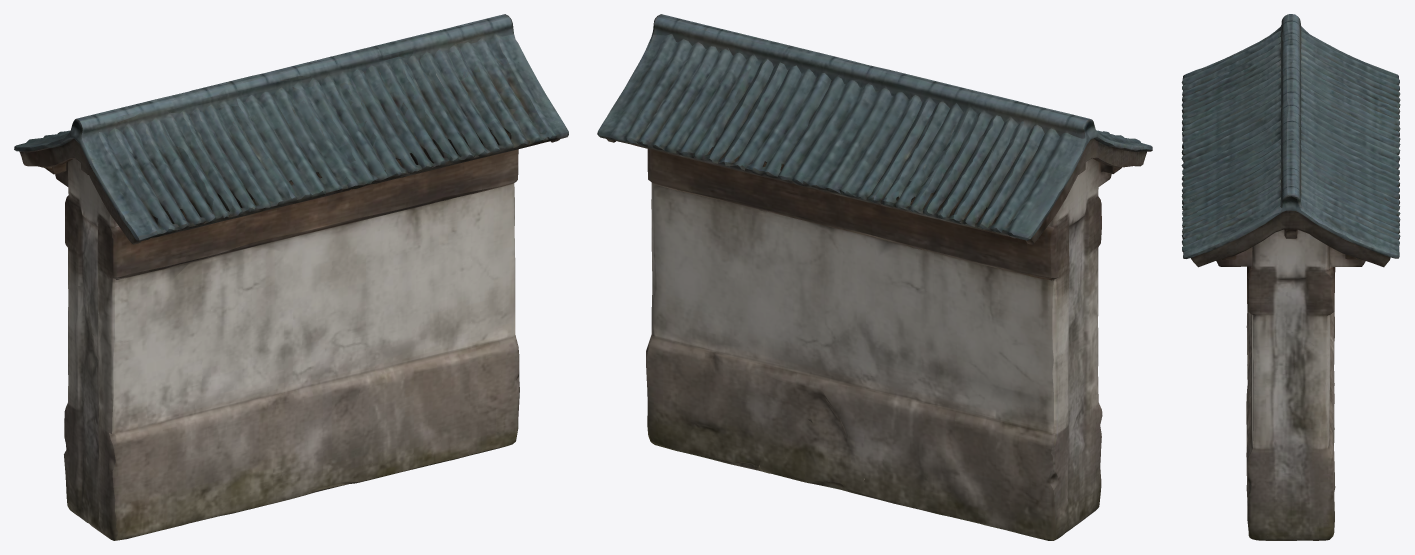
Rendered from ARCH-017.glb.
3 views of the same model, side by side, from view 1: azimuth 30°, elevation 25°; view 2: azimuth 150°, elevation 25°; view 3: azimuth 270°, elevation 25° (orthographic). The views are drawn at different scales.
Visible parts, largest first — view 1: world; view 2: world; view 3: world.
Part boxes in pixels (x1=…): world: x1=14, y1=14, x2=568, y2=540; world: x1=597, y1=14, x2=1152, y2=540; world: x1=1181, y1=14, x2=1400, y2=540.
Size of the model in its own units: 3.11 by 2.8 by 1.57.
1 material, 1 textured.
